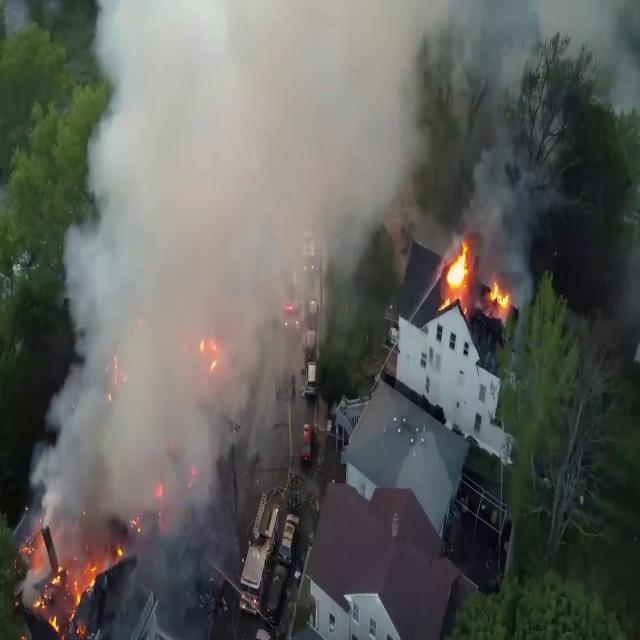Fire: (32, 542, 106, 636), (439, 238, 475, 304), (486, 276, 514, 322)
Smoke: (28, 0, 542, 400), (23, 0, 317, 572)
